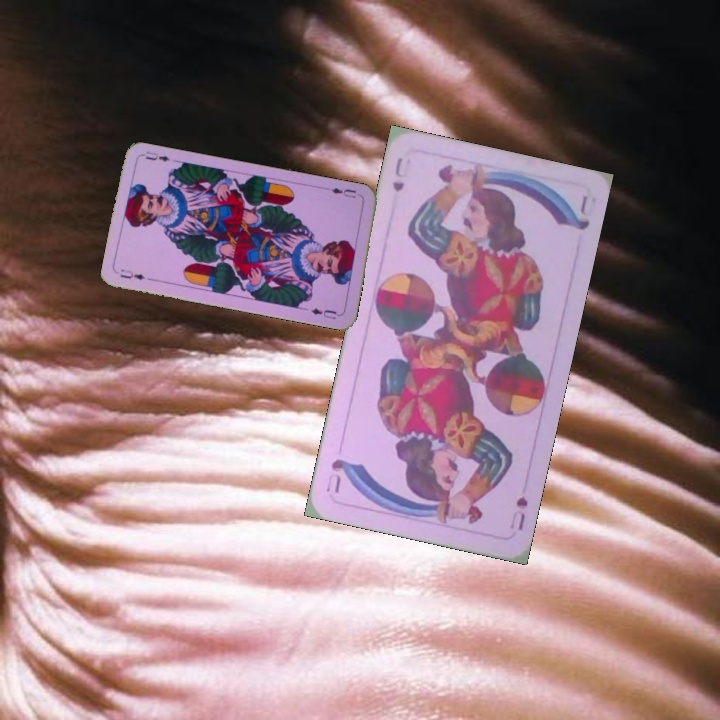EU: (327, 183, 359, 201), (116, 265, 147, 283)
SU: (505, 493, 531, 533), (388, 153, 411, 195)
